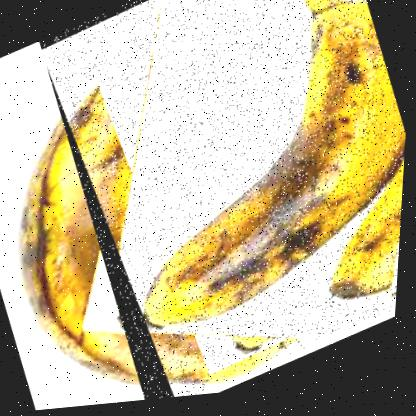banana_rotten: (21, 0, 415, 412)
